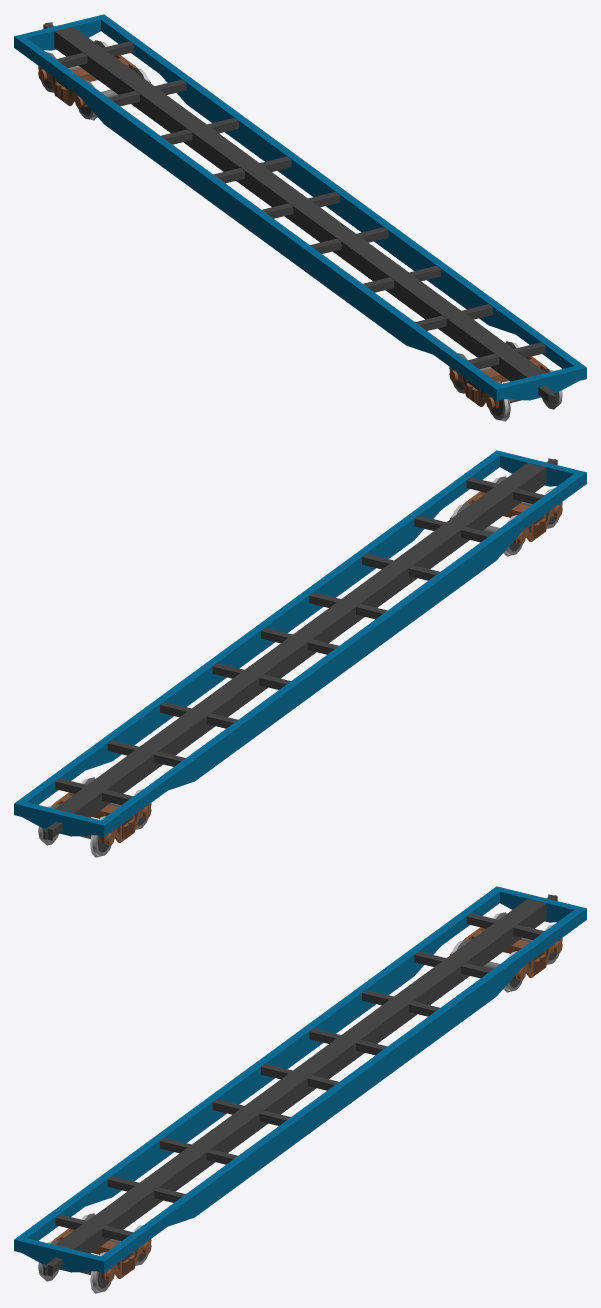
Rendered from platform_3A.glb.
3 views of the same model, one above another, from view 1: azimuth 30°, elevation 25°; view 2: azimuth 150°, elevation 25°; view 3: azimuth 330°, elevation 25° (orthographic).
Visible parts, largest first — view 1: platform_3A; view 2: platform_3A; view 3: platform_3A.
Boxes of the visible parts, left/top/right/bottom form: platform_3A: left=14, top=14, right=586, bottom=421; platform_3A: left=14, top=450, right=586, bottom=857; platform_3A: left=14, top=886, right=586, bottom=1293.
Size of the model in its own units: 2.7 by 1.39 by 26.42.
Materials: 1 (1 with a texture image).
